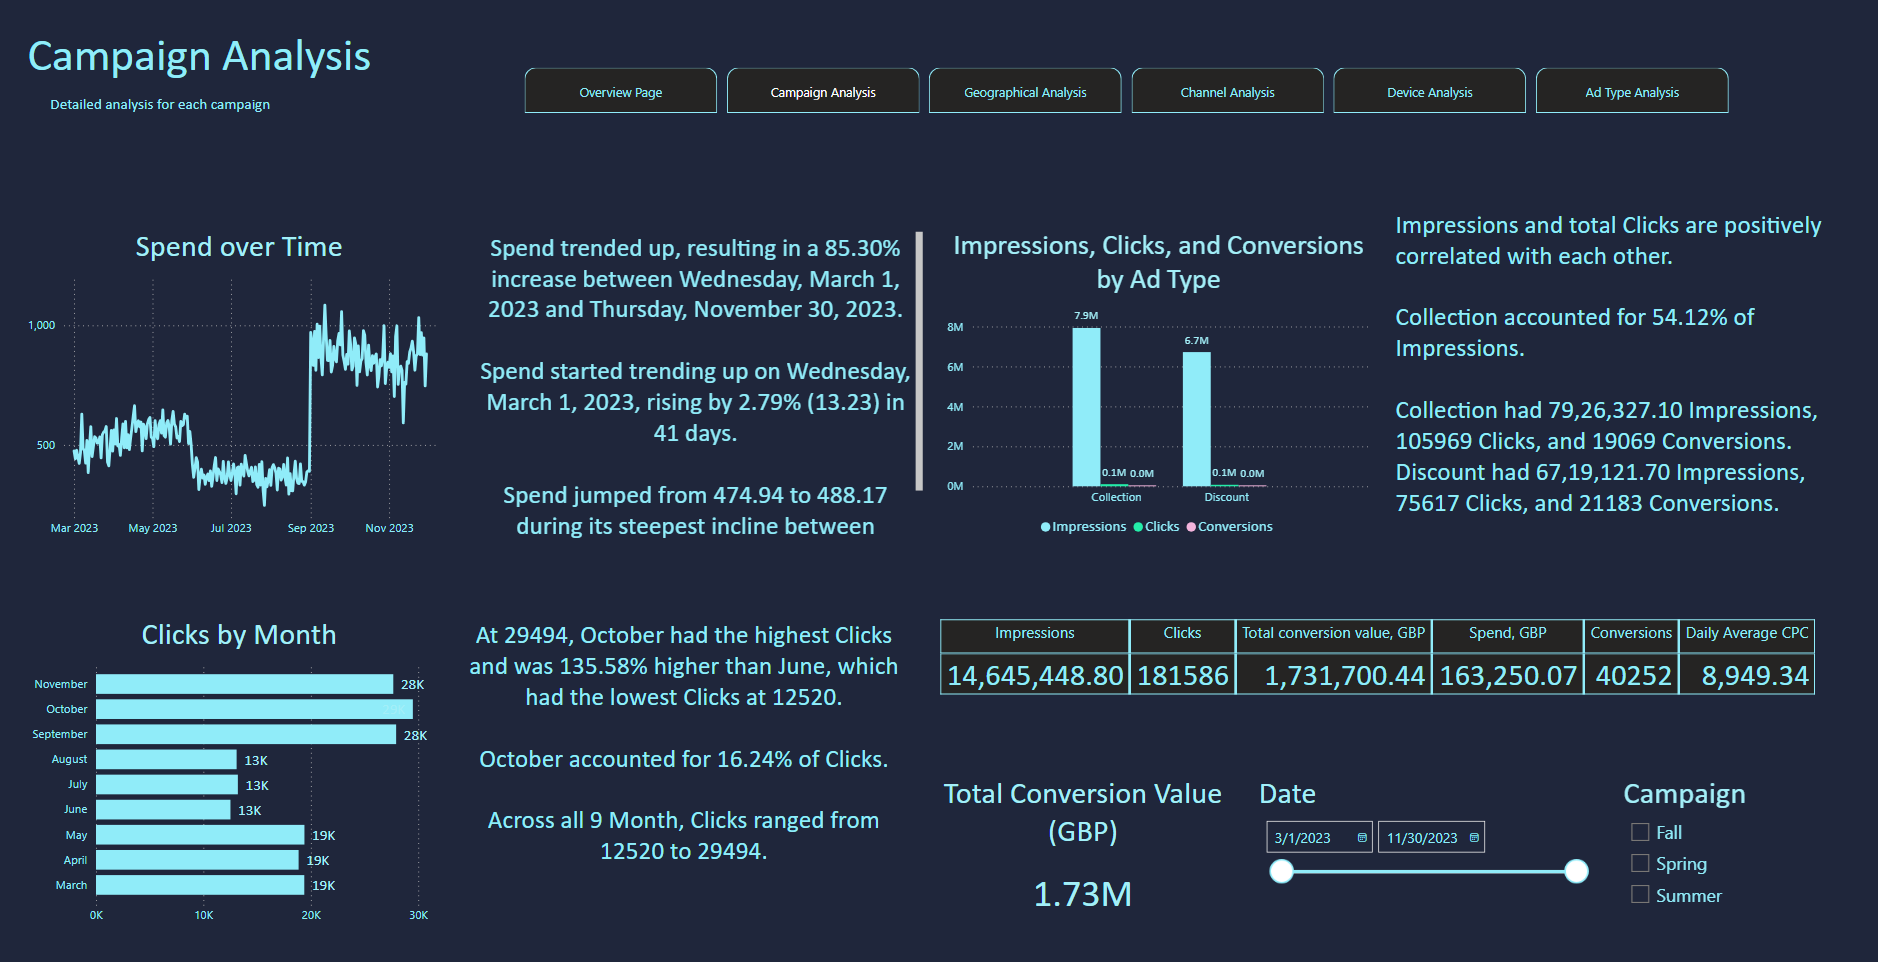

The dashboard page shown, as its layout file describes it:
{"tool":"powerbi","page":{"name":"Campaign Analysis","canvas":[1980,1020],"ordinal":1},"visuals":[{"type":"clusteredBarChart","title":"Clicks by Month","fields":{"Y":["Sum(data.Clicks)"],"Category":["data.Date.Variation.Date Hierarchy.Month"]},"box":[24,648,456,336],"z":0},{"type":"lineChart","title":"Spend over Time","fields":{"Y":["Sum(data.Spend, GBP)"],"Category":["data.Date.Variation.Date Hierarchy.Year","data.Date.Variation.Date Hierarchy.Quarter","data.Date.Variation.Date Hierarchy.Month","data.Date.Variation.Date Hierarchy.Day"]},"box":[24,240,456,336],"z":1000},{"type":"textbox","box":[496,240,480,336],"z":2000},{"type":"textbox","box":[480,648,480,336],"z":3000},{"type":"clusteredColumnChart","title":"Impressions, Clicks, and Conversions by Ad Type","fields":{"Y":["Sum(data.Impressions)","Sum(data.Clicks)","Sum(data.Conversions)"],"Category":["data.Ad"]},"box":[992,240,456,336],"z":4000},{"type":"tableEx","fields":{"Values":["Sum(data.Impressions)","Sum(data.Clicks)","Sum(data.Total conversion value, GBP)","Sum(data.Spend, GBP)","Sum(data.Conversions)","Sum(data.Daily Average CPC)"]},"box":[984,648,960,96],"z":5000},{"type":"card","title":"Total Conversion Value (GBP)","fields":{"Values":["Sum(data.Total conversion value, GBP)"]},"box":[960,816,360,168],"z":6000},{"type":"textbox","box":[1464,216,504,360],"z":7000},{"type":"slicer","title":"Date","fields":{"Values":["data.Date"]},"box":[1320,816,360,168],"z":8000},{"type":"slicer","title":"Campaign","fields":{"Values":["data.Campaign"]},"box":[1704,816,240,168],"z":9000},{"type":"textbox","box":[24,24,456,120],"z":10000},{"type":"textbox","box":[48,96,288,48],"z":11000},{"type":"pageNavigator","box":[552,72,1272,48],"z":12000}]}

Visuals, with their boxes in screenshot pixels (x1, y1, x2, y2), scaled from the page's 1980x1020 canvas onto the 1878x962 screenshot:
"Clicks by Month" clusteredBarChart: 23 611 455 928
"Spend over Time" lineChart: 23 226 455 543
textbox: 470 226 926 543
textbox: 455 611 911 928
"Impressions, Clicks, and Conversions by Ad Type" clusteredColumnChart: 941 226 1373 543
tableEx - Sum(data.Impressions) x Sum(data.Clicks): 933 611 1844 702
"Total Conversion Value (GBP)" card: 911 770 1252 928
textbox: 1389 204 1867 543
"Date" slicer: 1252 770 1593 928
"Campaign" slicer: 1616 770 1844 928
textbox: 23 23 455 136
textbox: 46 91 319 136
pageNavigator: 524 68 1730 113
